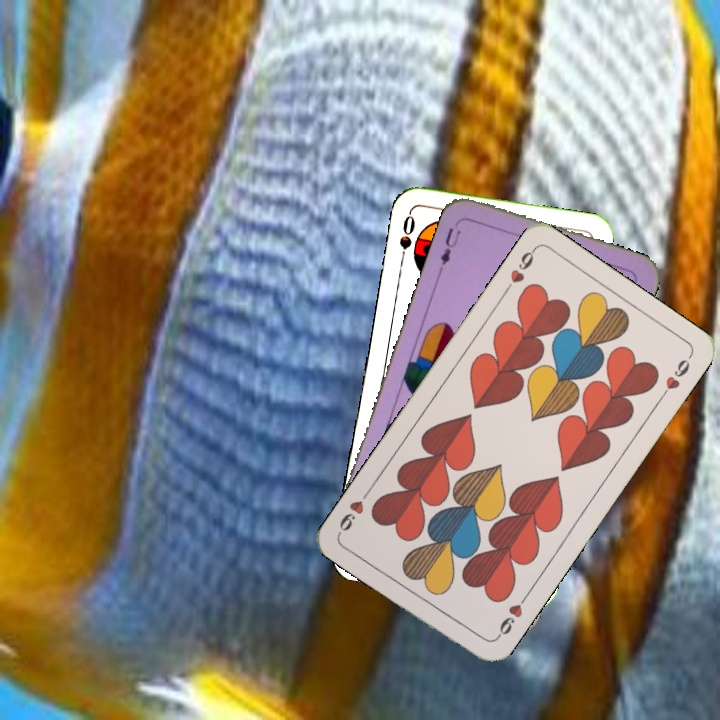EU: (436, 215, 466, 272)
H9: (500, 244, 539, 296), (491, 591, 530, 643)
SO: (395, 209, 418, 268)
